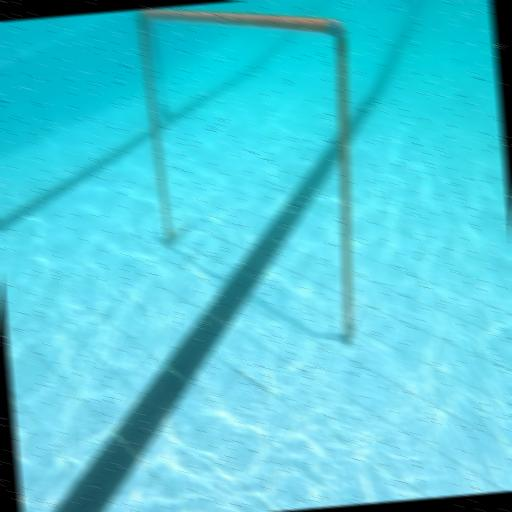gate: (134, 0, 374, 360)
